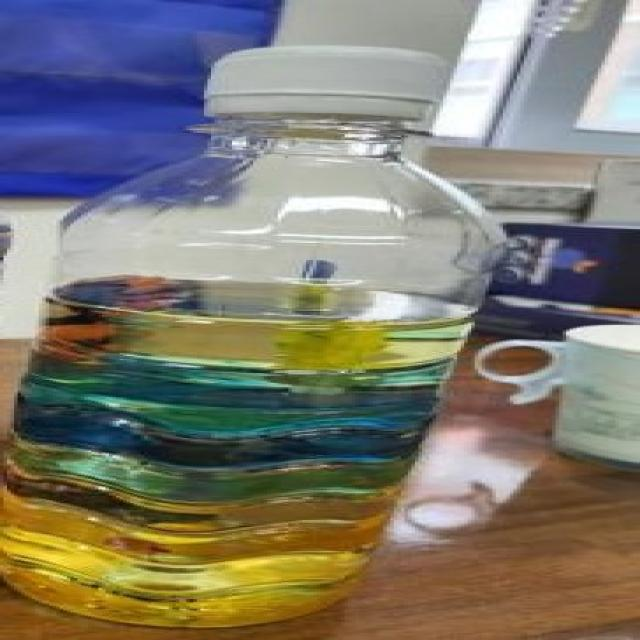medium: (4, 47, 503, 626)
